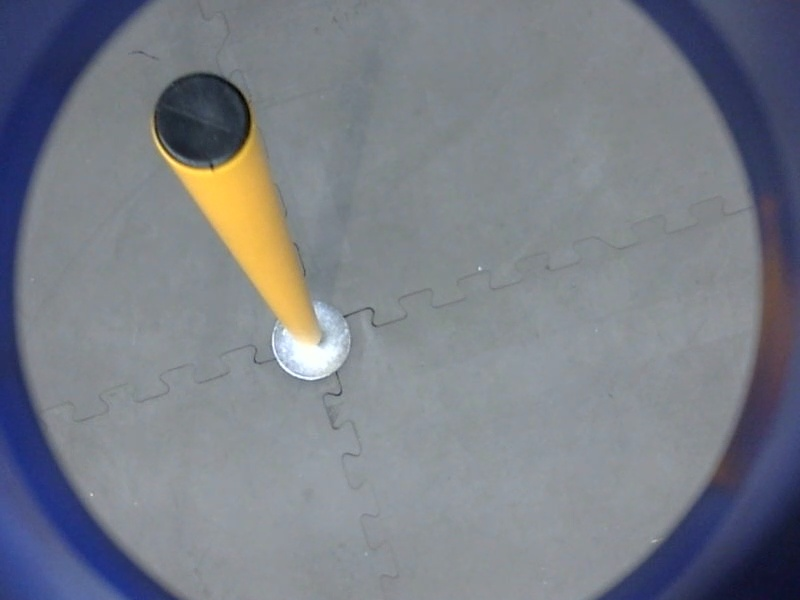tip: (144, 65, 259, 175)
